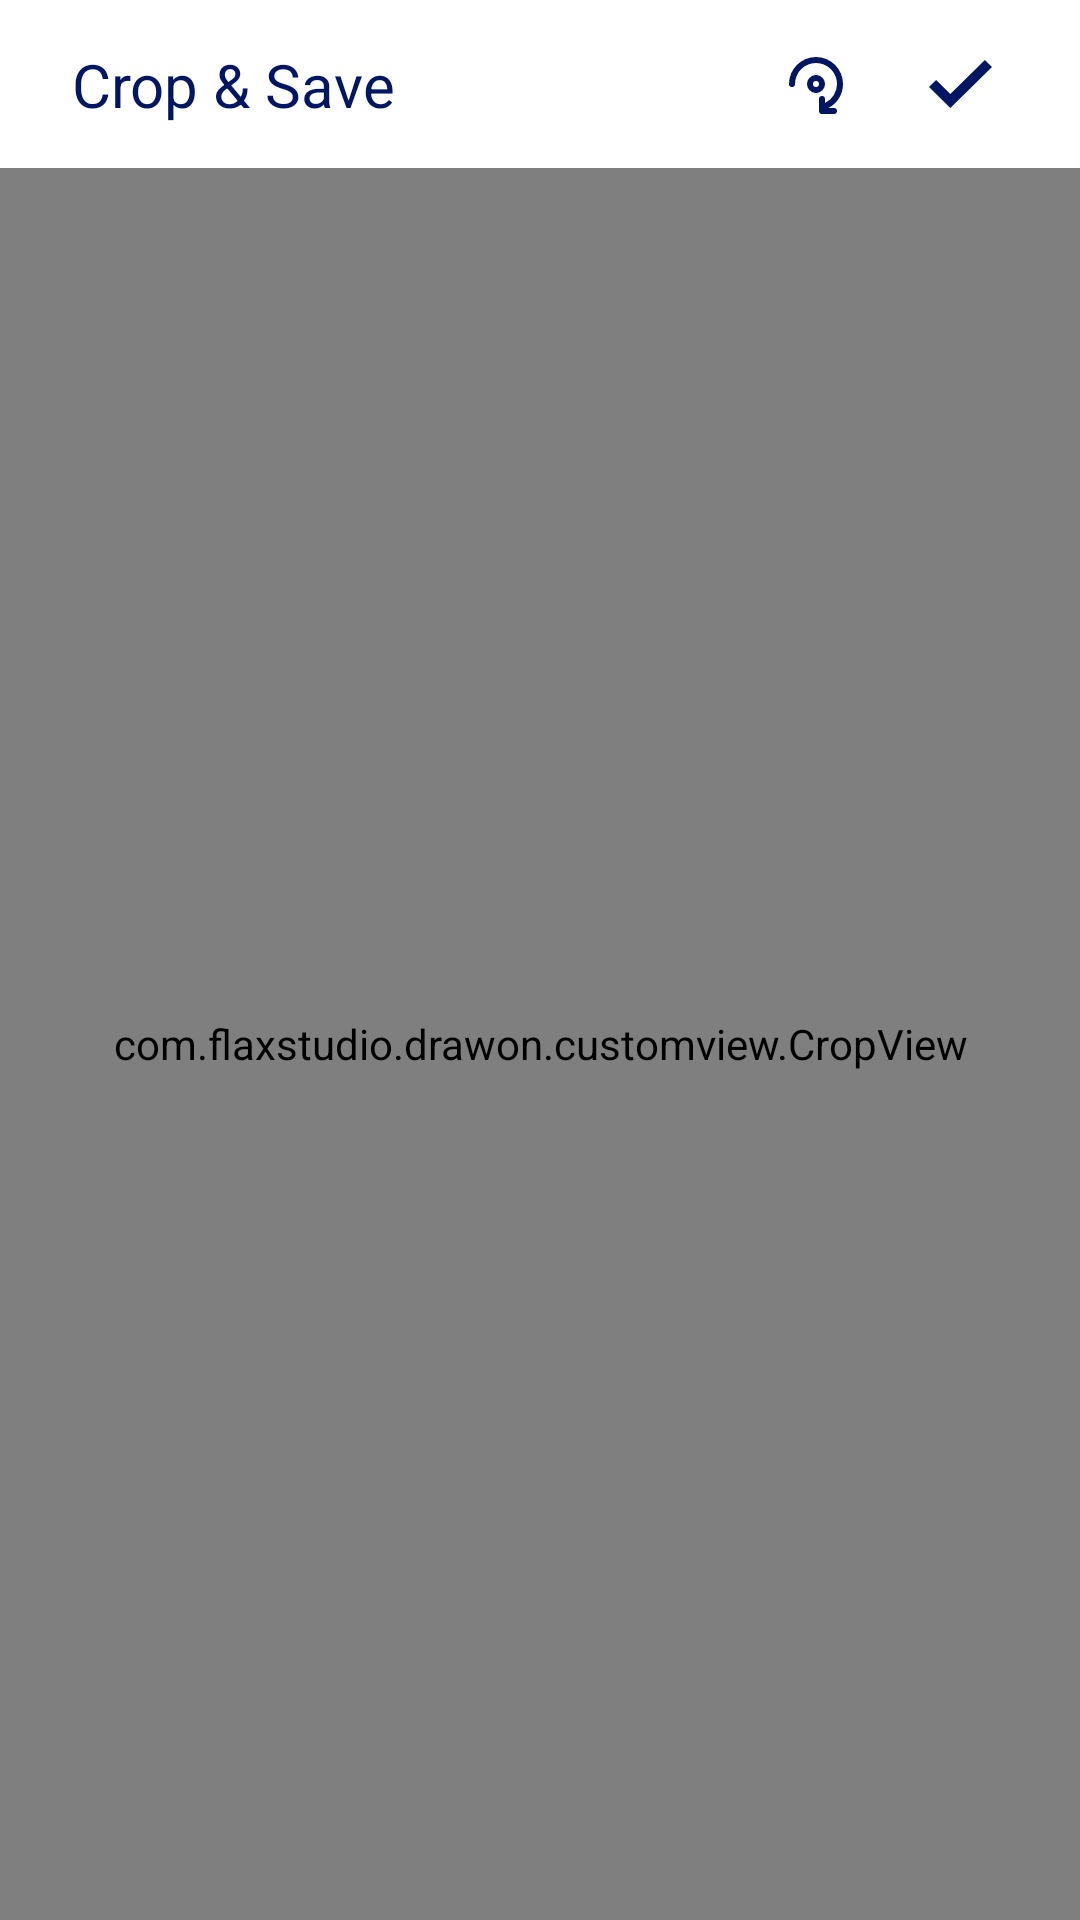

Icon bounding boxes for this 1080w x 1920h phone screenshot, format (x1, y1, x2, y2):
reset: (789, 57, 843, 114)
save: (929, 60, 992, 108)
